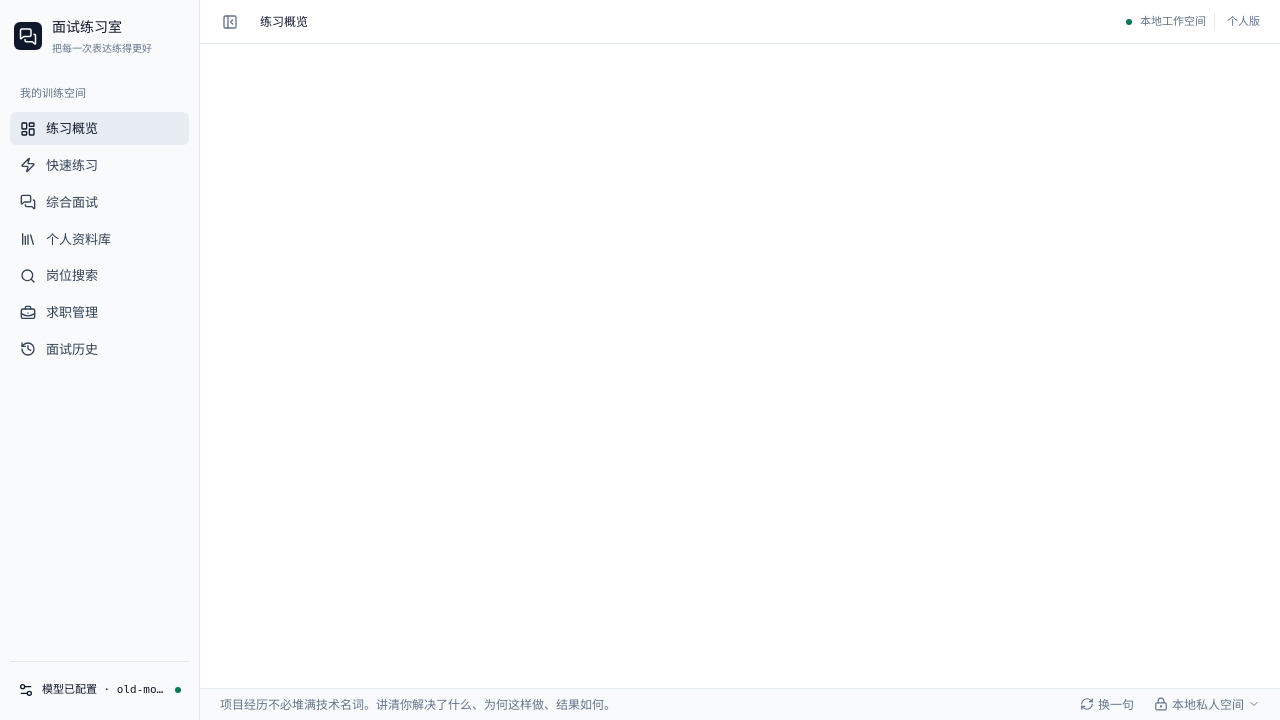
Test: 右上角打开全站弹窗，读取不请求模型且密钥为空
What coordinates should you click on to do the following:
click the button "模型已配置 · old-model"
I would click on:
 (100, 690)
Its box is [10, 672, 189, 708].
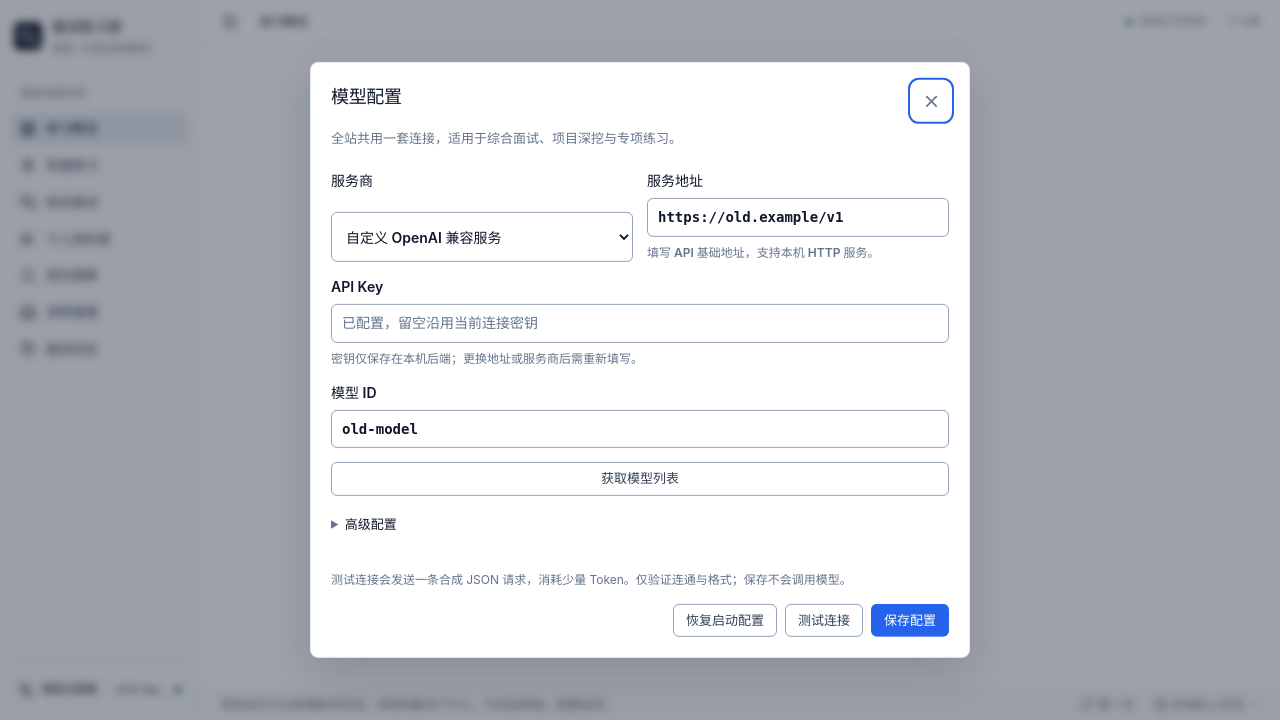
Result: the dialog shows "模型配置" at [331, 86, 402, 107]
